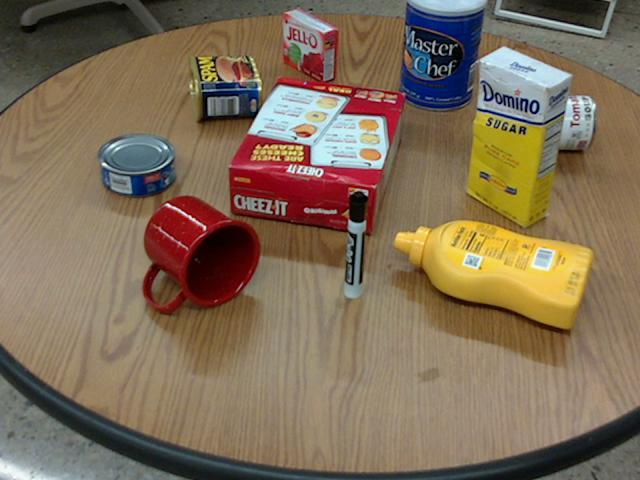cracker_box: (227, 78, 403, 233)
gelatin_box: (283, 9, 337, 81)
large_marker: (343, 190, 366, 298)
master_chef_can: (399, 0, 486, 109)
mug: (141, 196, 258, 309)
mustard_bottle: (394, 219, 590, 327)
potted_meat_can: (188, 55, 260, 119)
sugar_box: (468, 46, 569, 227)
tomato_soup_can: (499, 93, 594, 148)
tuna_fish_can: (97, 133, 174, 196)
